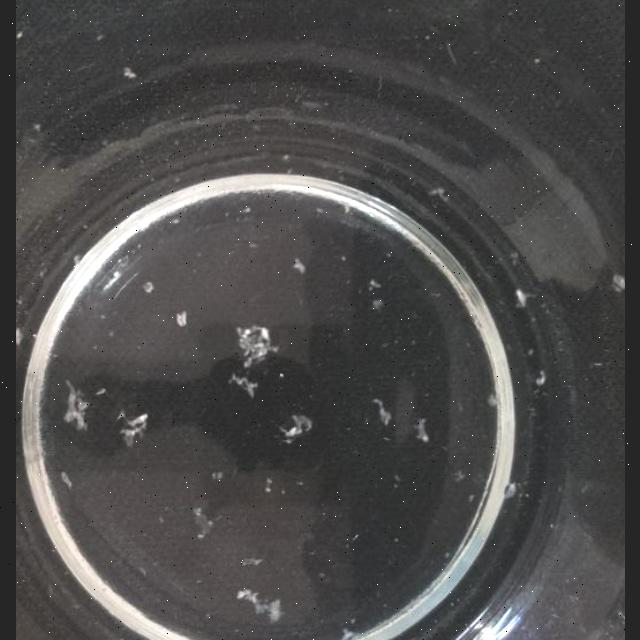Fibre: (235, 323, 277, 367), (236, 588, 282, 624), (62, 381, 90, 432), (119, 412, 148, 448), (278, 414, 310, 444), (190, 506, 213, 540), (230, 374, 256, 398), (371, 398, 392, 426), (264, 598, 284, 624), (412, 416, 430, 444), (102, 270, 121, 292), (515, 290, 533, 308), (240, 556, 262, 568), (504, 481, 518, 499), (59, 471, 72, 489), (302, 101, 324, 111), (294, 258, 306, 276), (175, 312, 187, 328), (486, 392, 498, 408), (340, 628, 356, 640), (426, 186, 444, 196), (367, 279, 381, 291), (536, 370, 546, 386), (264, 478, 274, 494), (371, 299, 384, 311), (142, 281, 154, 293), (15, 328, 23, 346), (211, 472, 223, 481)
microbeads: (122, 67, 136, 79), (280, 154, 290, 162), (31, 124, 41, 132), (242, 206, 252, 214), (95, 33, 104, 41), (170, 218, 180, 225), (15, 32, 23, 40), (318, 570, 326, 578), (249, 242, 259, 248), (339, 255, 346, 262), (534, 56, 540, 64), (351, 534, 359, 540), (425, 34, 431, 40)
